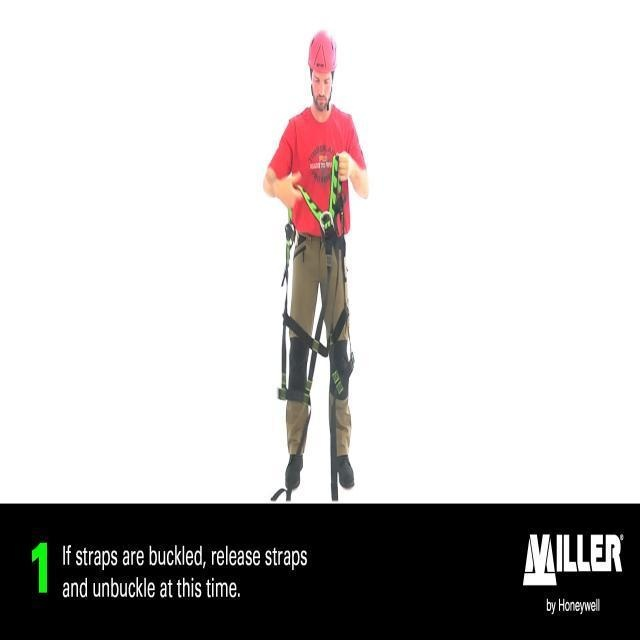Arnes_seguridad: (273, 158, 353, 508)
